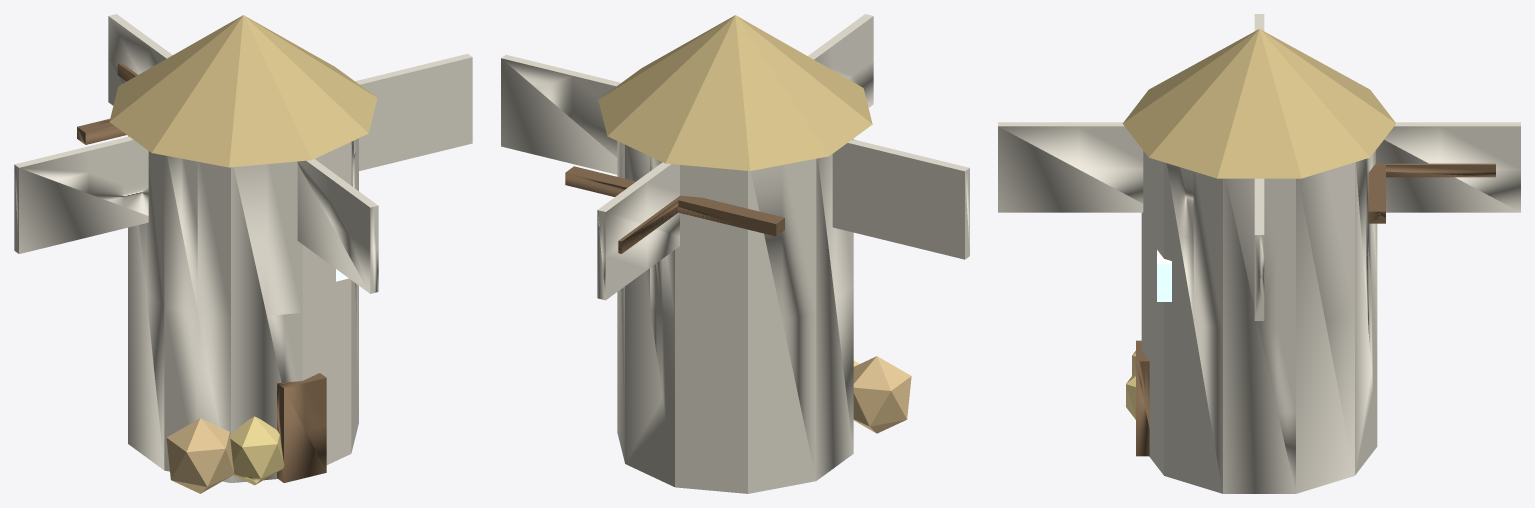
File: windmill.glb
The picture shows the model from 3 angles, left to right: view 1: azimuth 30°, elevation 25°; view 2: azimuth 150°, elevation 25°; view 3: azimuth 270°, elevation 25°; orthographic projection. The views are drawn at different scales.
Parts seen in each view (by area): view 1: MillTower; view 2: MillTower; view 3: MillTower.
Part boxes in pixels (x1=…): MillTower: x1=14, y1=14, x2=472, y2=493; MillTower: x1=501, y1=14, x2=969, y2=493; MillTower: x1=998, y1=14, x2=1520, y2=493.
Size of the model in its own units: 2.75 by 2.45 by 2.75.
